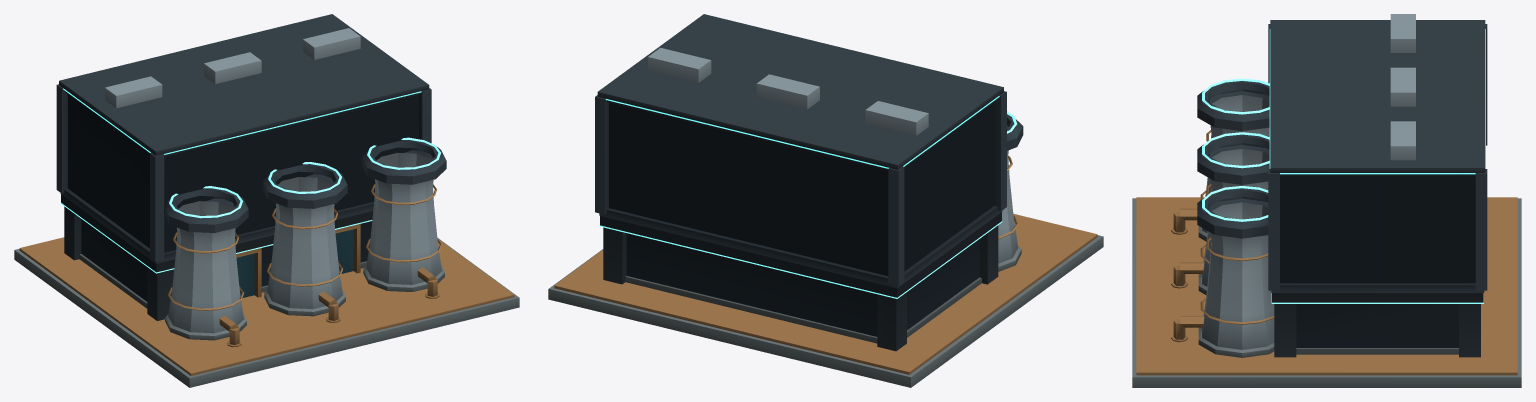
File: compute-foundry.lod2.glb
3 renders of one model, left to right at view 1: azimuth 30°, elevation 25°; view 2: azimuth 150°, elevation 25°; view 3: azimuth 270°, elevation 25°, orthographic. The views are drawn at different scales.
Parts seen in each view (by area): view 1: structure, lobby; view 2: structure, lobby; view 3: structure, lobby.
Boxes of the visible parts, <box> form: structure: <box>14,14,519,387</box>; lobby: <box>81,219,372,301</box>; structure: <box>548,14,1103,387</box>; lobby: <box>626,233,979,336</box>; structure: <box>1132,14,1521,387</box>; lobby: <box>1296,304,1458,347</box>.
Size of the model in its own units: 25 by 14.22 by 23.
